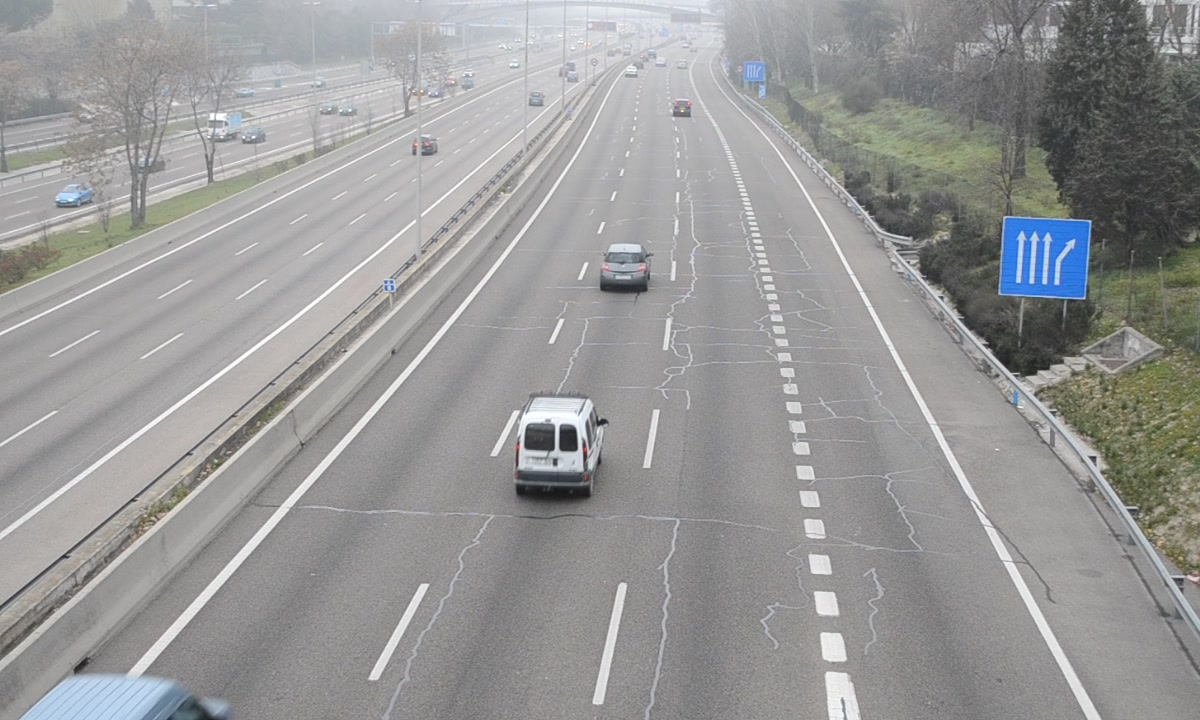car: (600, 243, 650, 289)
van: (512, 398, 604, 495)
